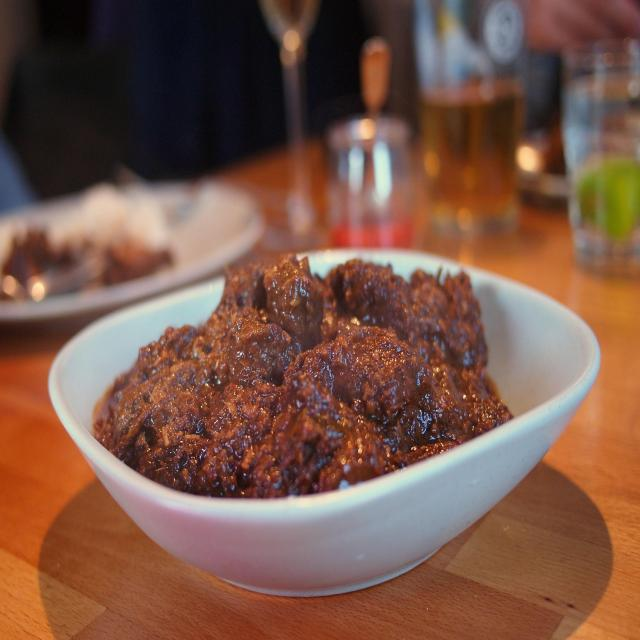Rendang: (83, 241, 541, 528)
